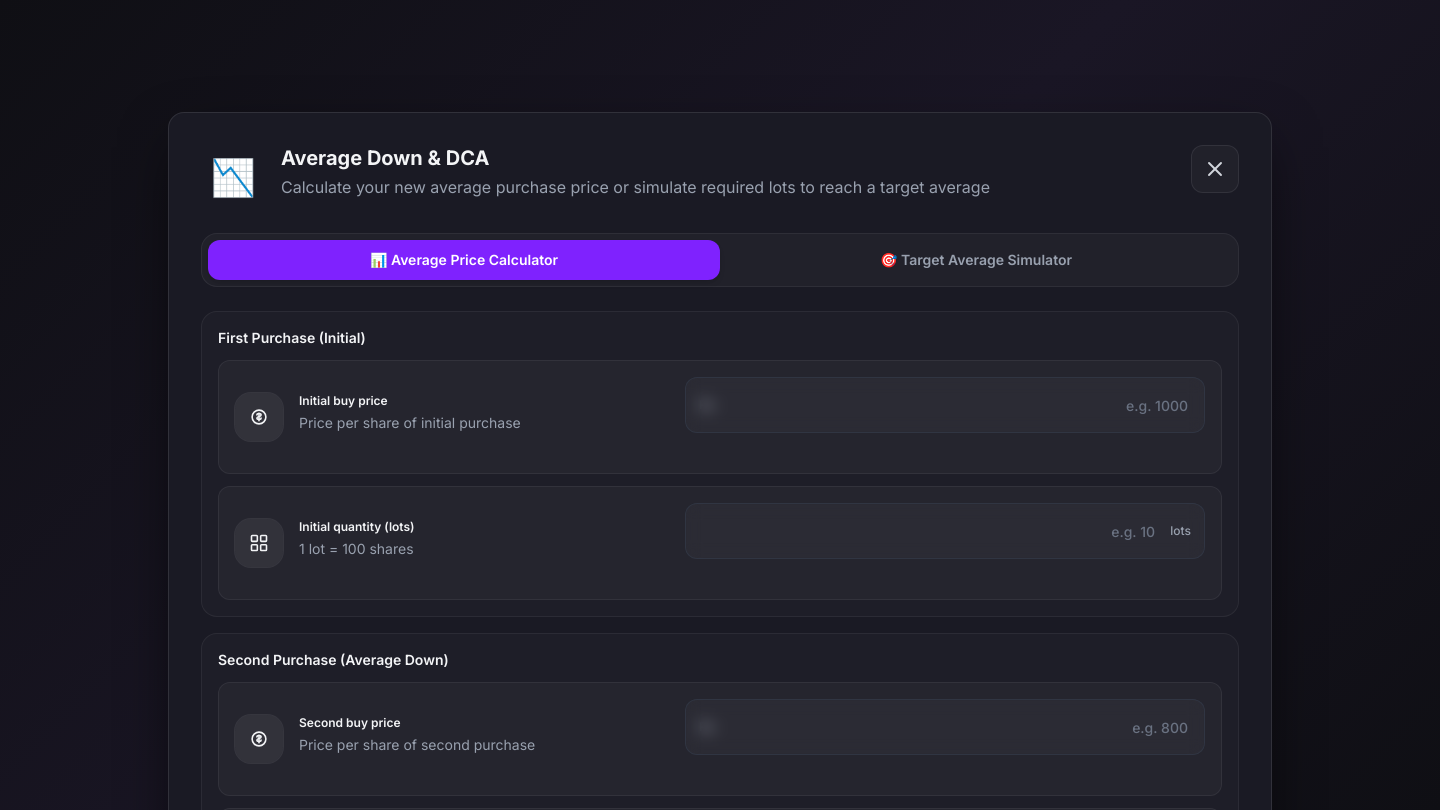
Test case: AverageDown page › calculates standard average down price correctly
Step 1. Type "1000" into the field labelled "Initial buy price" → (945, 405), box [685,377,1205,433]
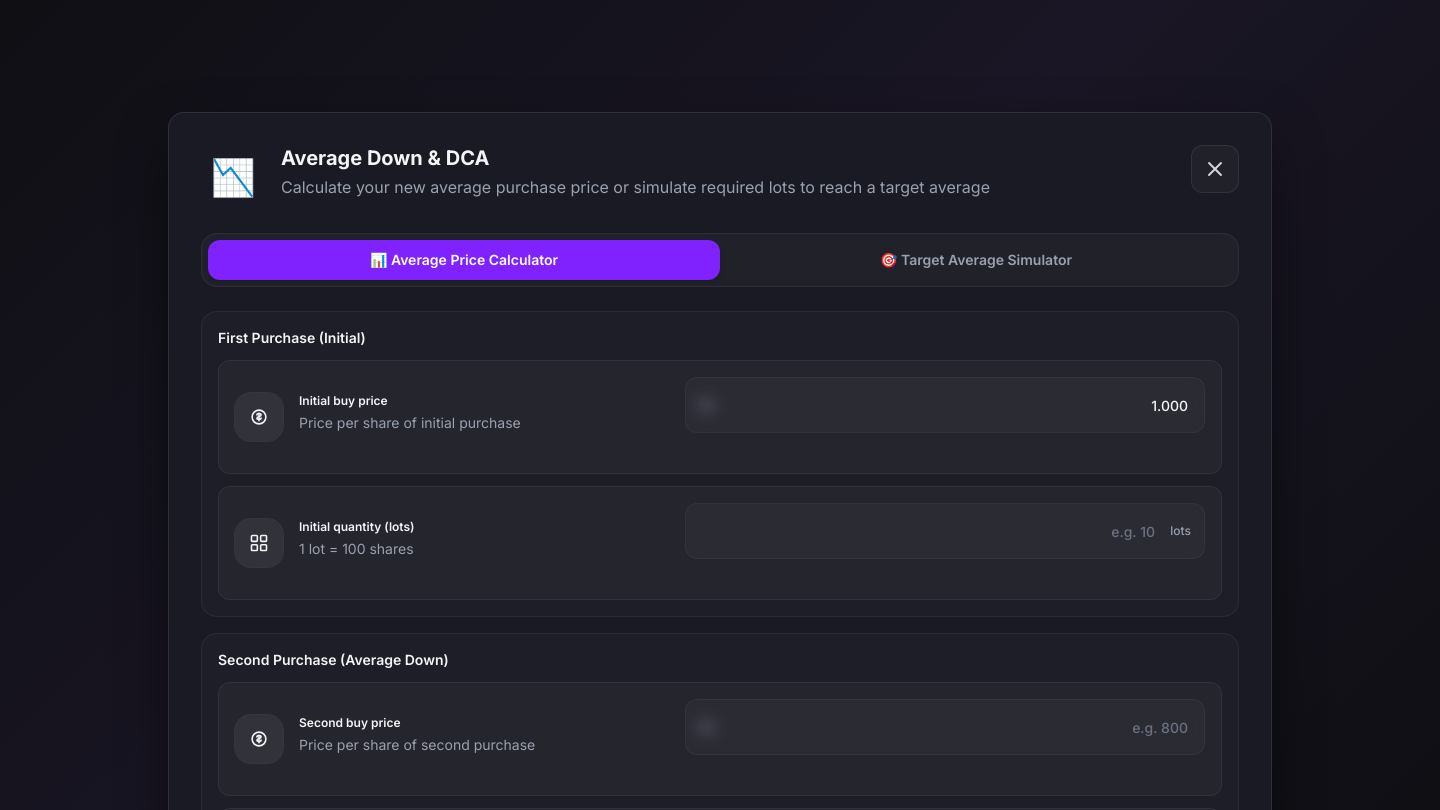
Step 2. Type "10" into the field labelled "Initial quantity (lots)" → (945, 531), box [685,503,1205,559]
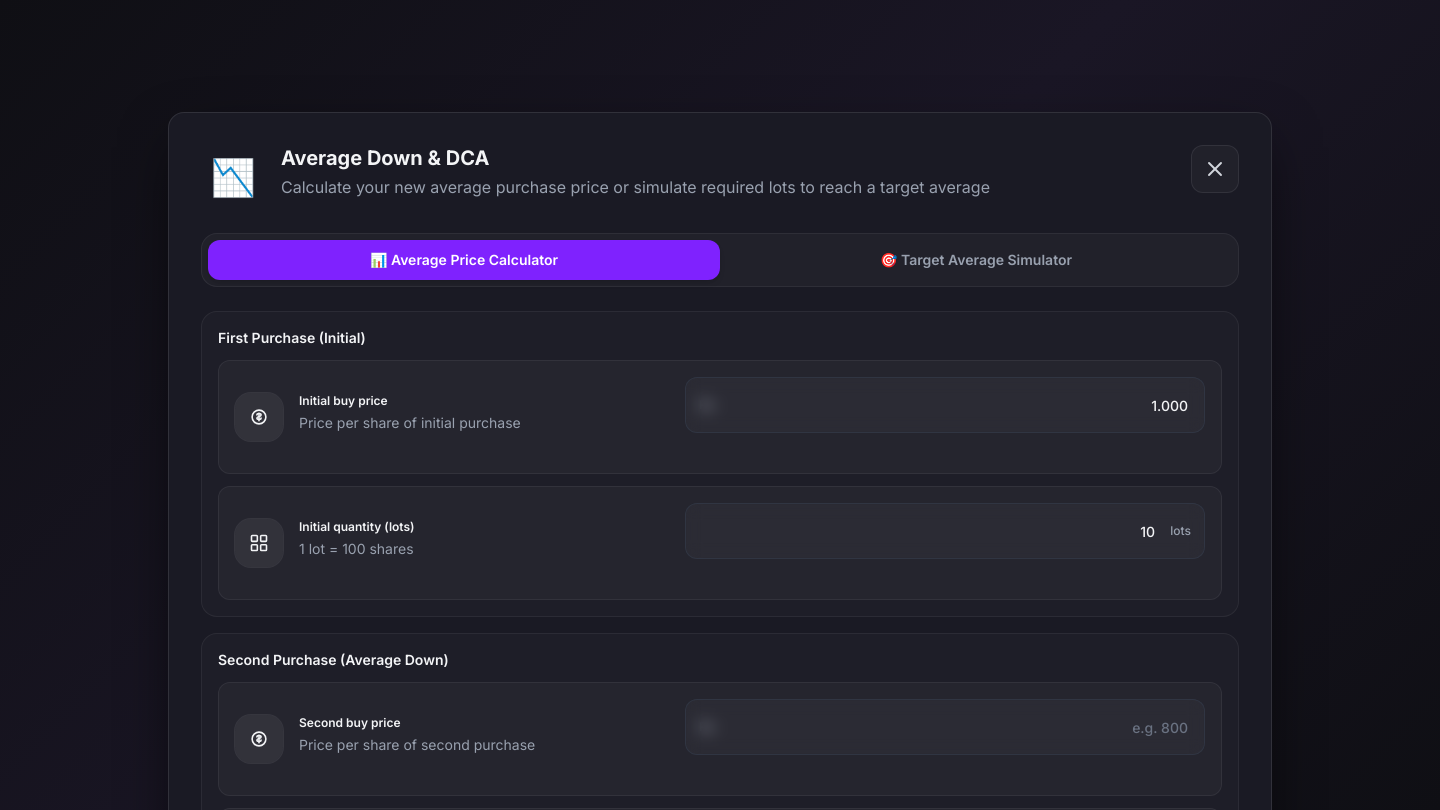
Step 3. Type "800" into the field labelled "Second buy price" → (945, 727), box [685,699,1205,755]
(page scrolled)
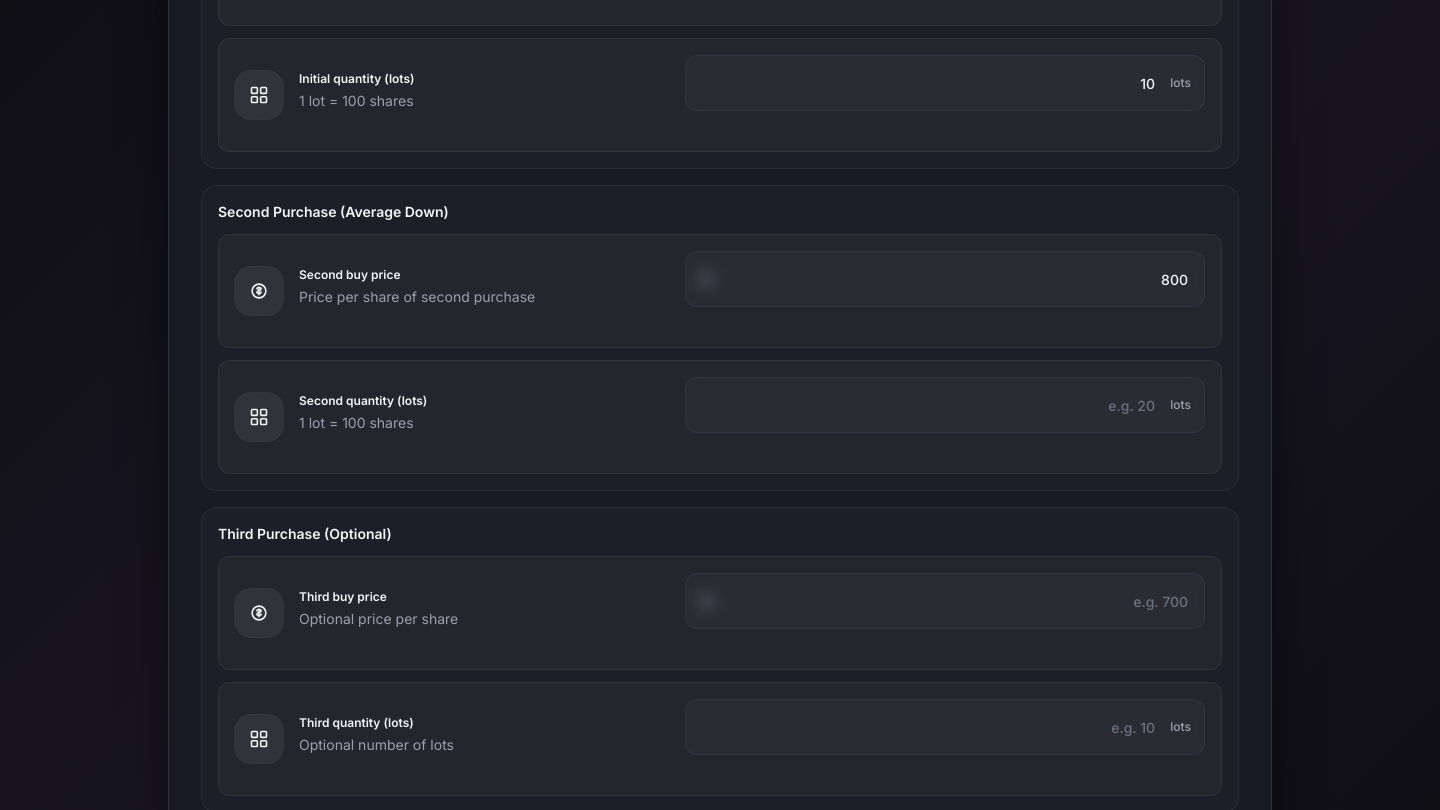
Step 4. Type "10" into the field labelled "Second quantity (lots)" → (945, 405), box [685,377,1205,433]
(page scrolled)
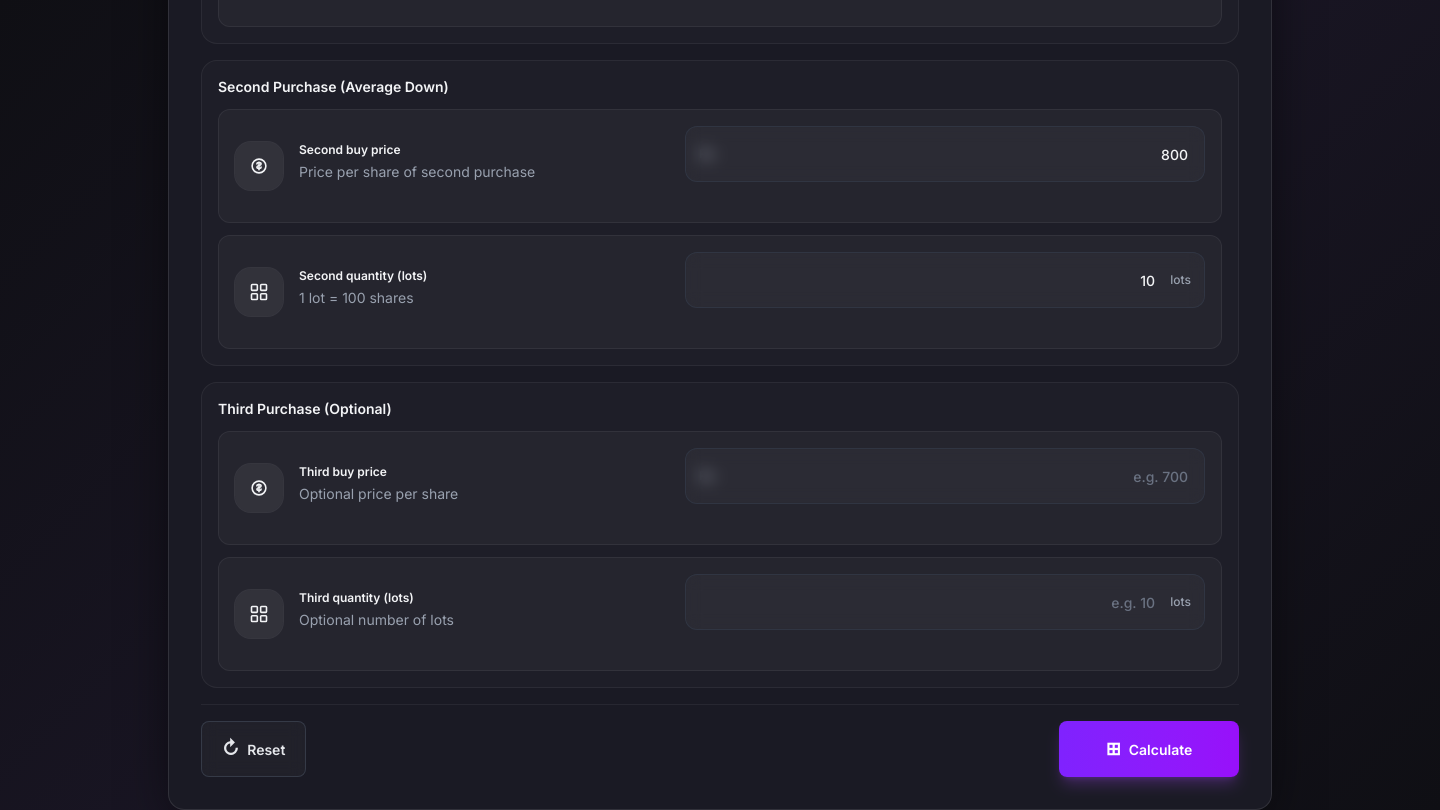
Step 5. Click the button "⊞ Calculate" → (1149, 749), box [1059,721,1239,777]
(page scrolled)
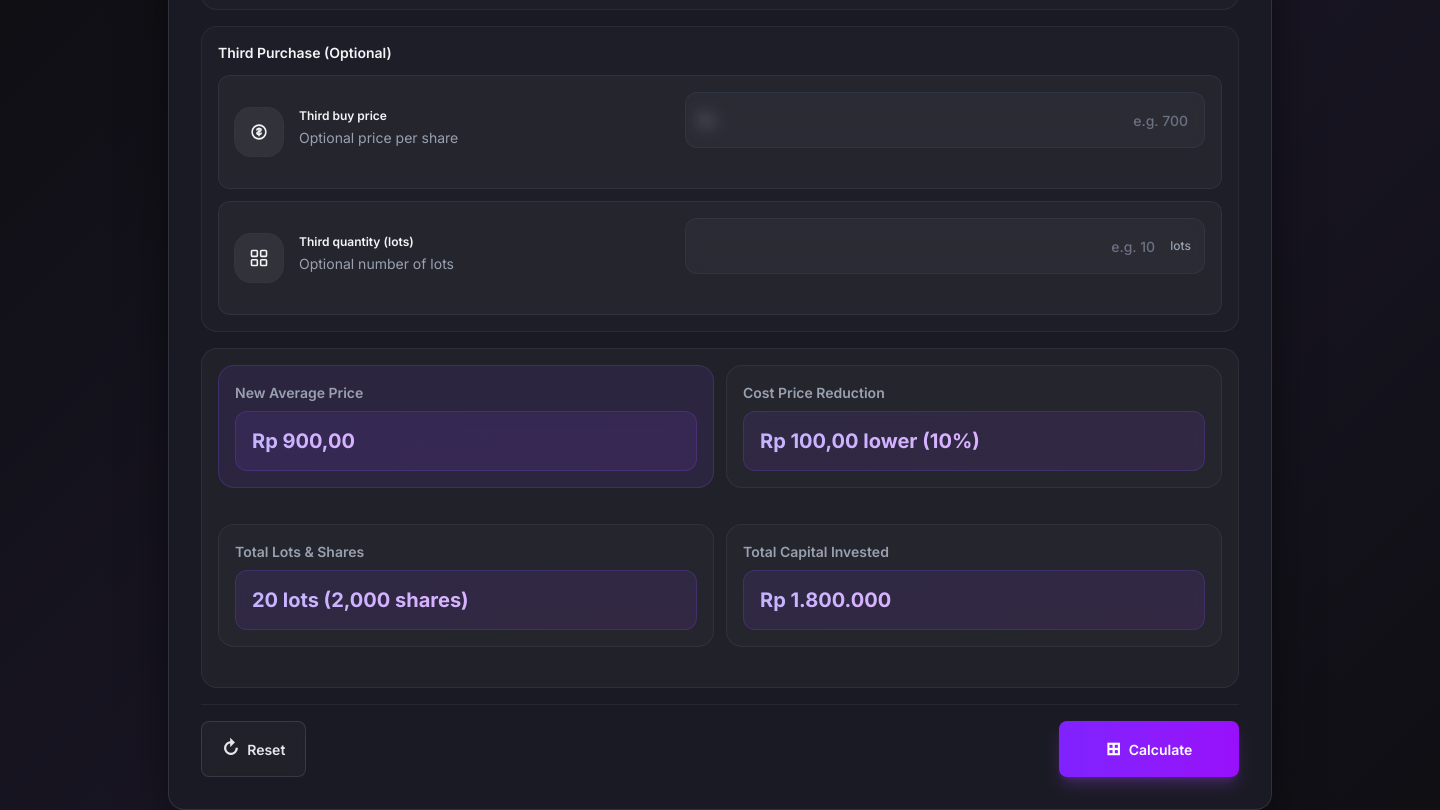
Now the text "Rp 900,00" is shown, box [252,429,355,453]
Now the text "Rp 1.800.000" is shown, box [760,588,891,612]
Now the text "20 lots (2,000 shares)" is shown, box [252,588,469,612]
